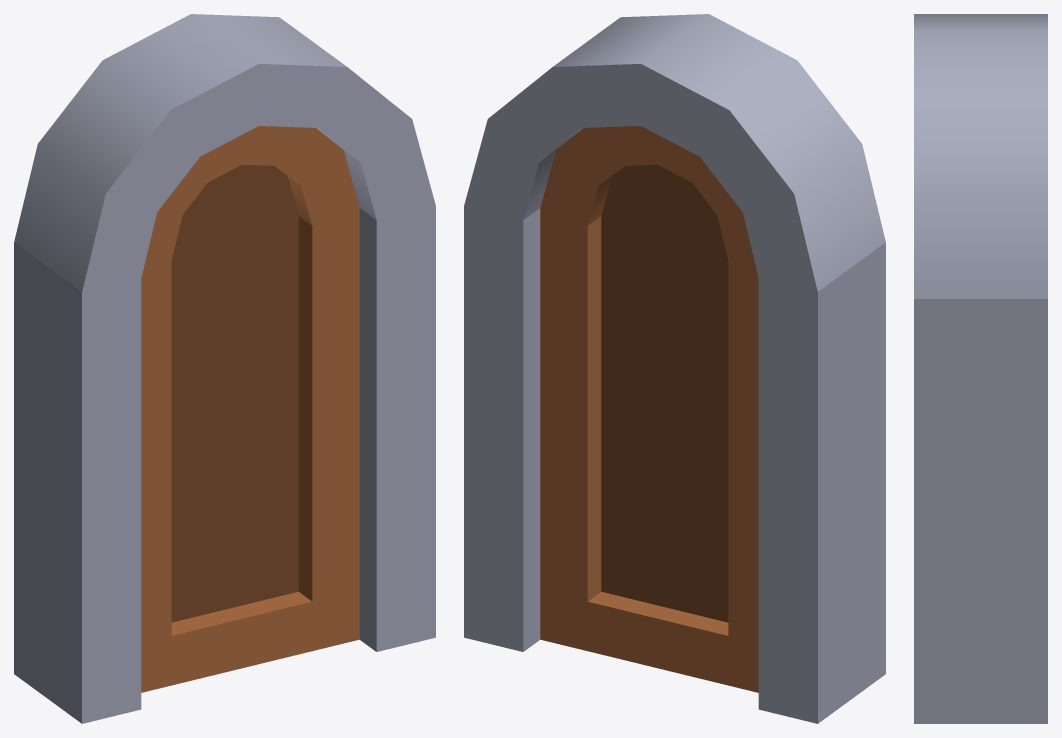
The model's file is door.glb.
3 renders of one model, left to right at view 1: azimuth 30°, elevation 25°; view 2: azimuth 150°, elevation 25°; view 3: azimuth 270°, elevation 25°, orthographic.
Visible parts, largest first — view 1: door, doorClosed; view 2: door, doorClosed; view 3: door.
Boxes of the visible parts, box(x1,y1,x2,y2) form: door: box(14, 14, 435, 723); doorClosed: box(141, 126, 359, 692); door: box(464, 14, 885, 723); doorClosed: box(540, 126, 758, 692); door: box(914, 14, 1047, 723).
Size of the model in its own units: 0.6 by 1 by 0.2.
